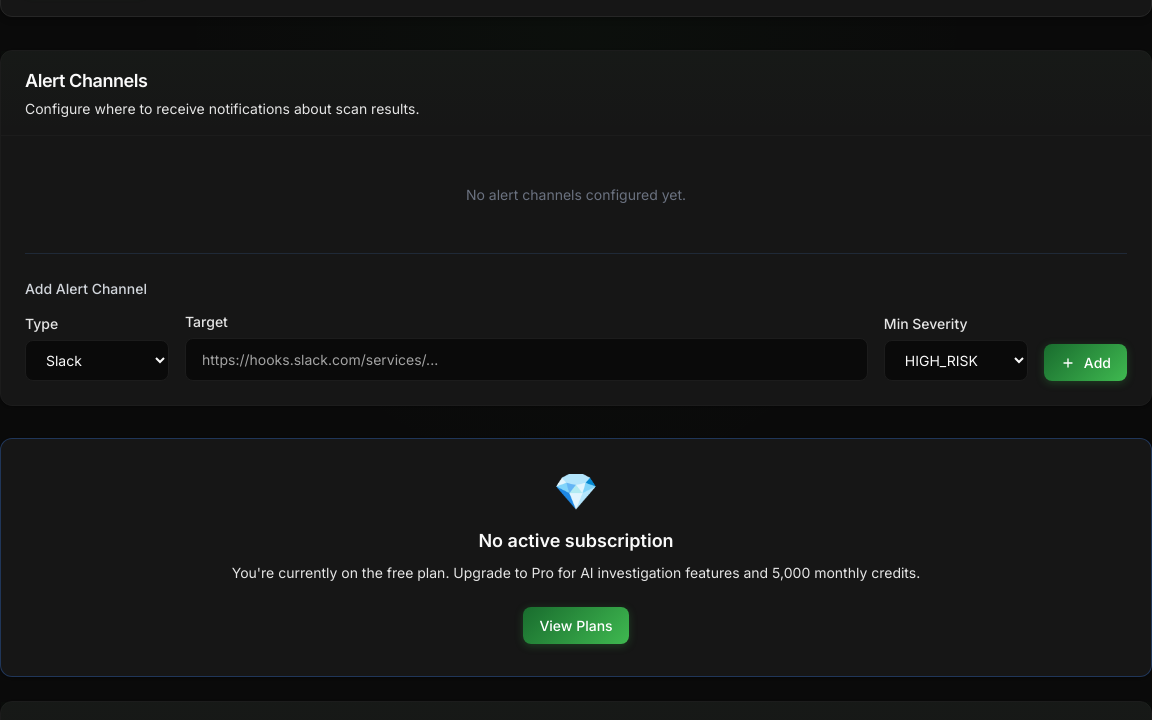
it: creates email alert configuration and clears its target
(page scrolled)
Expected: the text "No alert channels configured yet." is shown, [466, 186, 686, 203]
Select "Email" in the dropdown labelled "Type" at (97, 361), box [25, 340, 169, 381]
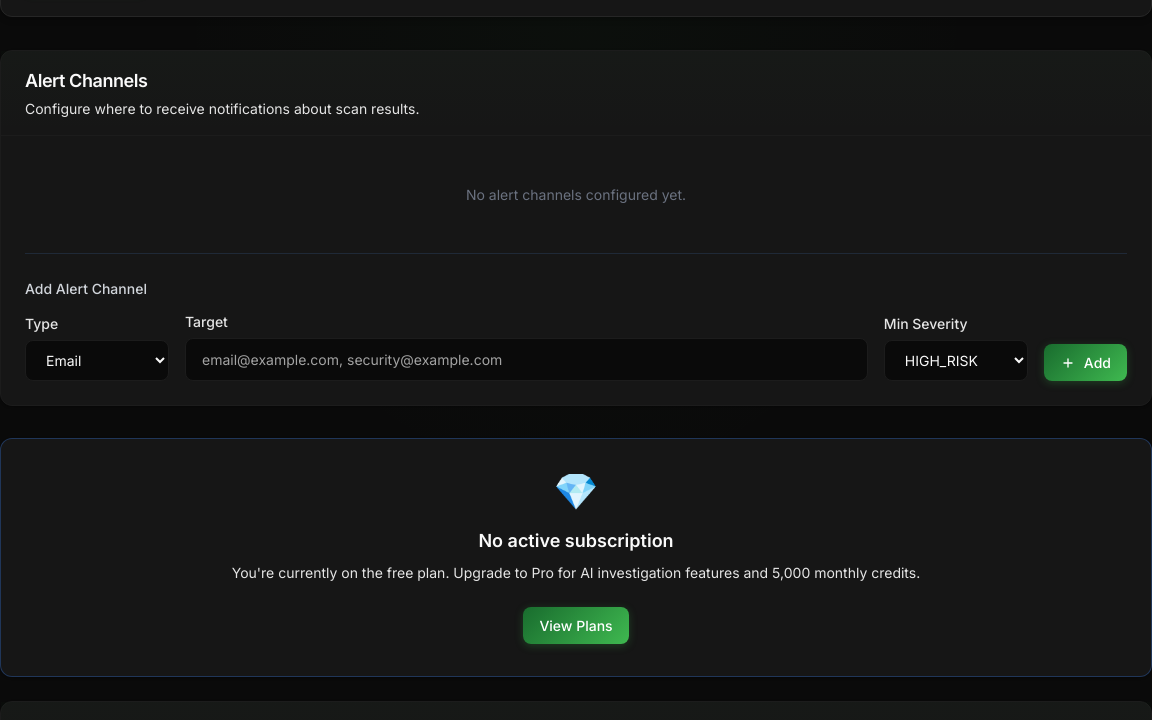
Type " one@example.invalid, , two@example.invalid " into the field labelled "Target" at (526, 360), box [185, 338, 868, 381]
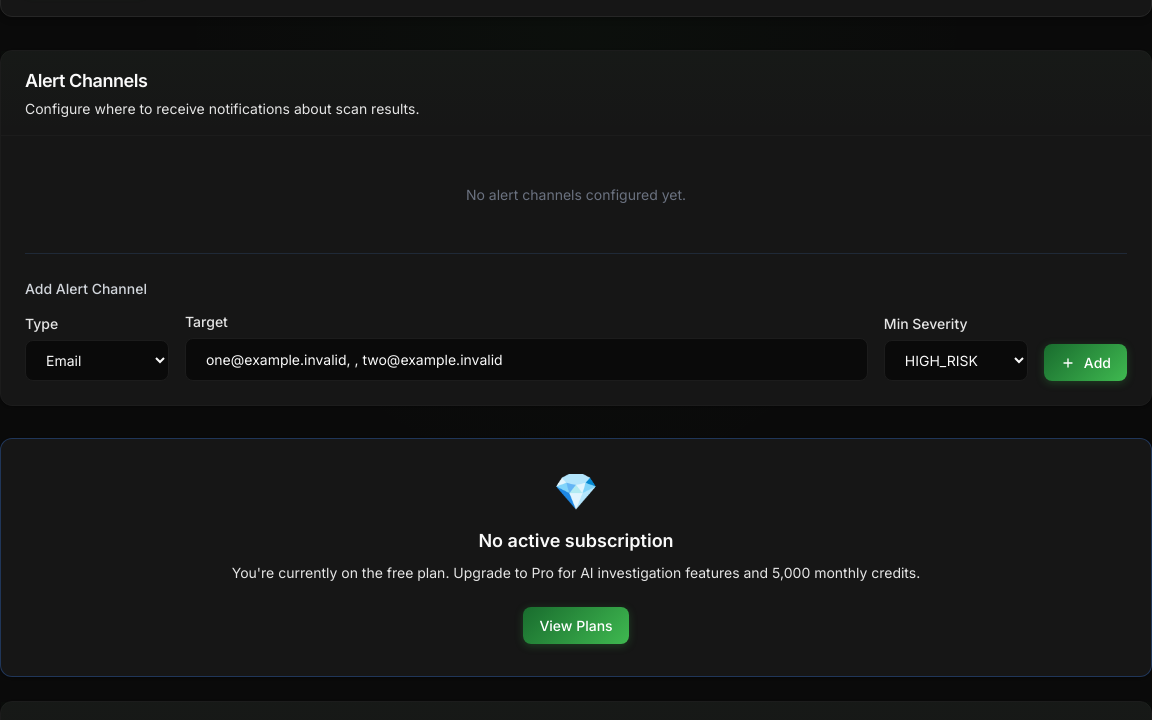
Select "CRITICAL_RISK" in the dropdown labelled "Min Severity" at (956, 361), box [884, 340, 1028, 381]
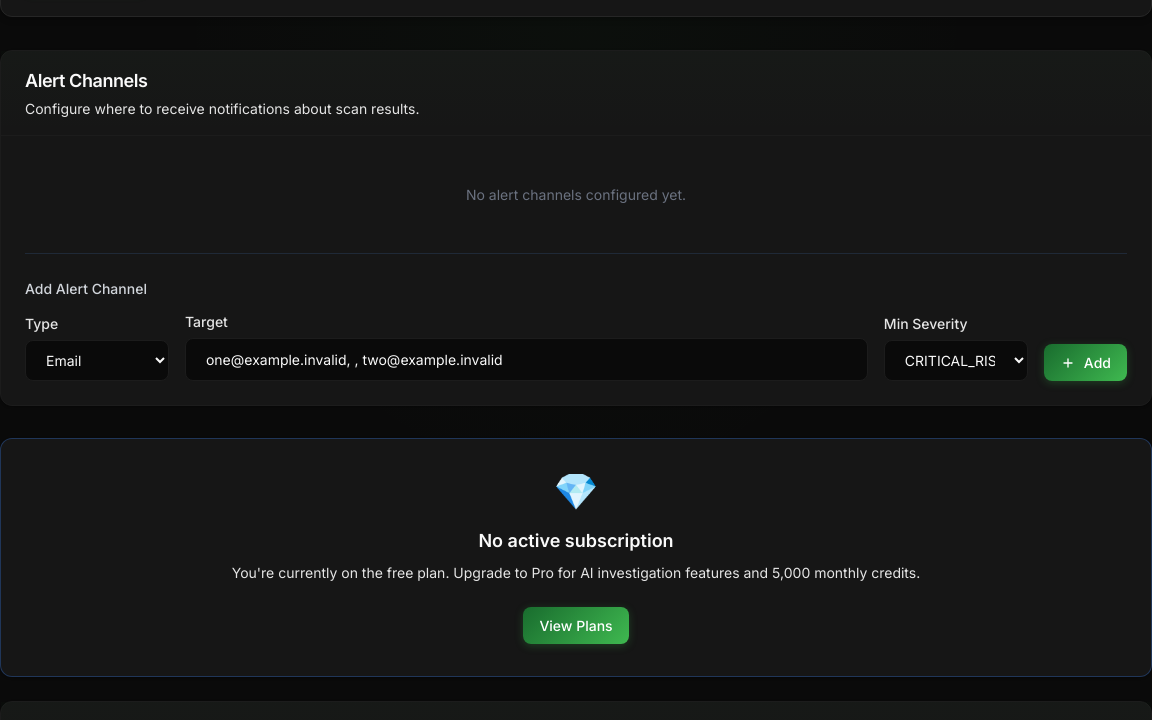
Click the button "Add" at (1085, 363), box [1044, 344, 1127, 381]
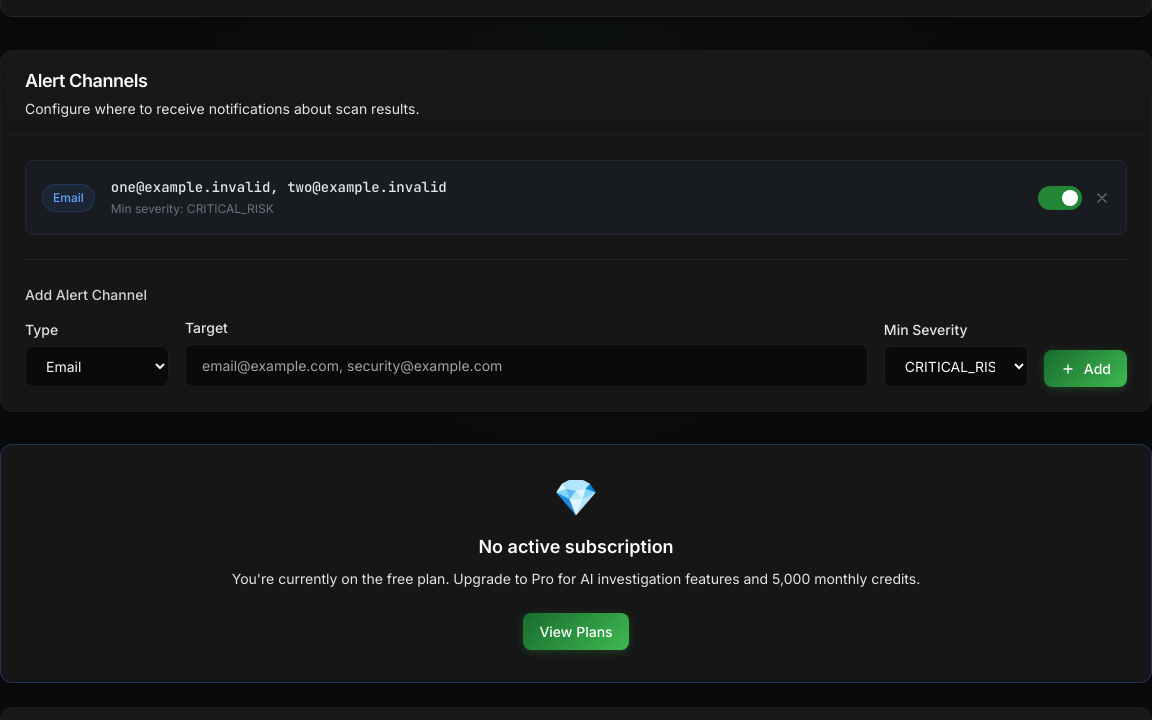
Expected: the field labelled "Target" is empty, [185, 344, 868, 387]
Expected: the text "Min severity: CRITICAL_RISK" is shown, [111, 201, 274, 216]
